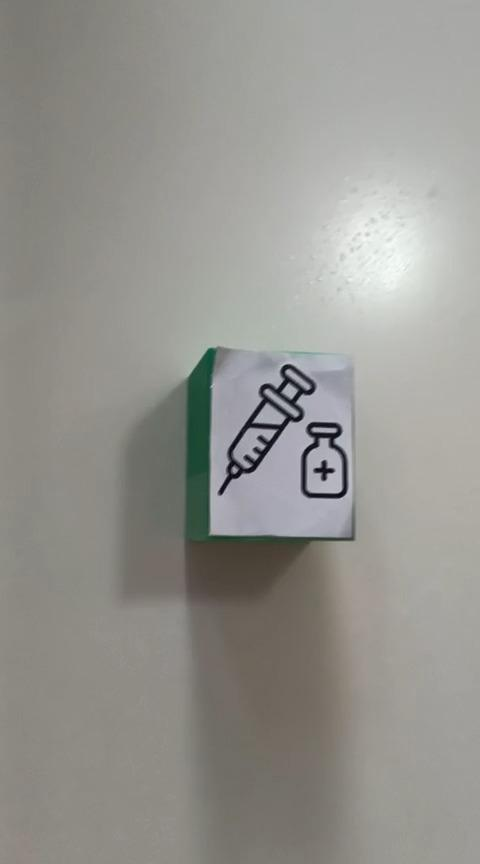antiseptic cream: (184, 344, 356, 543)
